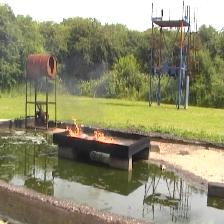fire: (93, 131, 117, 143), (67, 117, 81, 137)
